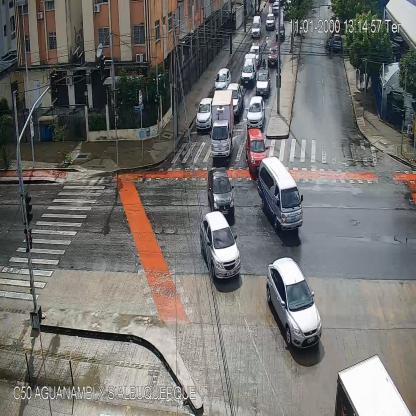car: (266, 256, 322, 348), (258, 156, 304, 232), (199, 212, 242, 280), (208, 167, 236, 222), (246, 127, 266, 175), (247, 94, 264, 126), (196, 97, 212, 129), (241, 54, 255, 82), (255, 70, 270, 96), (214, 68, 231, 88), (250, 15, 262, 38), (267, 46, 279, 67), (250, 43, 260, 66), (276, 24, 286, 42), (265, 13, 275, 29), (273, 0, 279, 12)
motorbike: (324, 37, 332, 53), (262, 54, 266, 71)
person: (359, 70, 364, 90), (356, 68, 359, 88)
truck: (336, 354, 416, 414), (211, 90, 234, 158)
